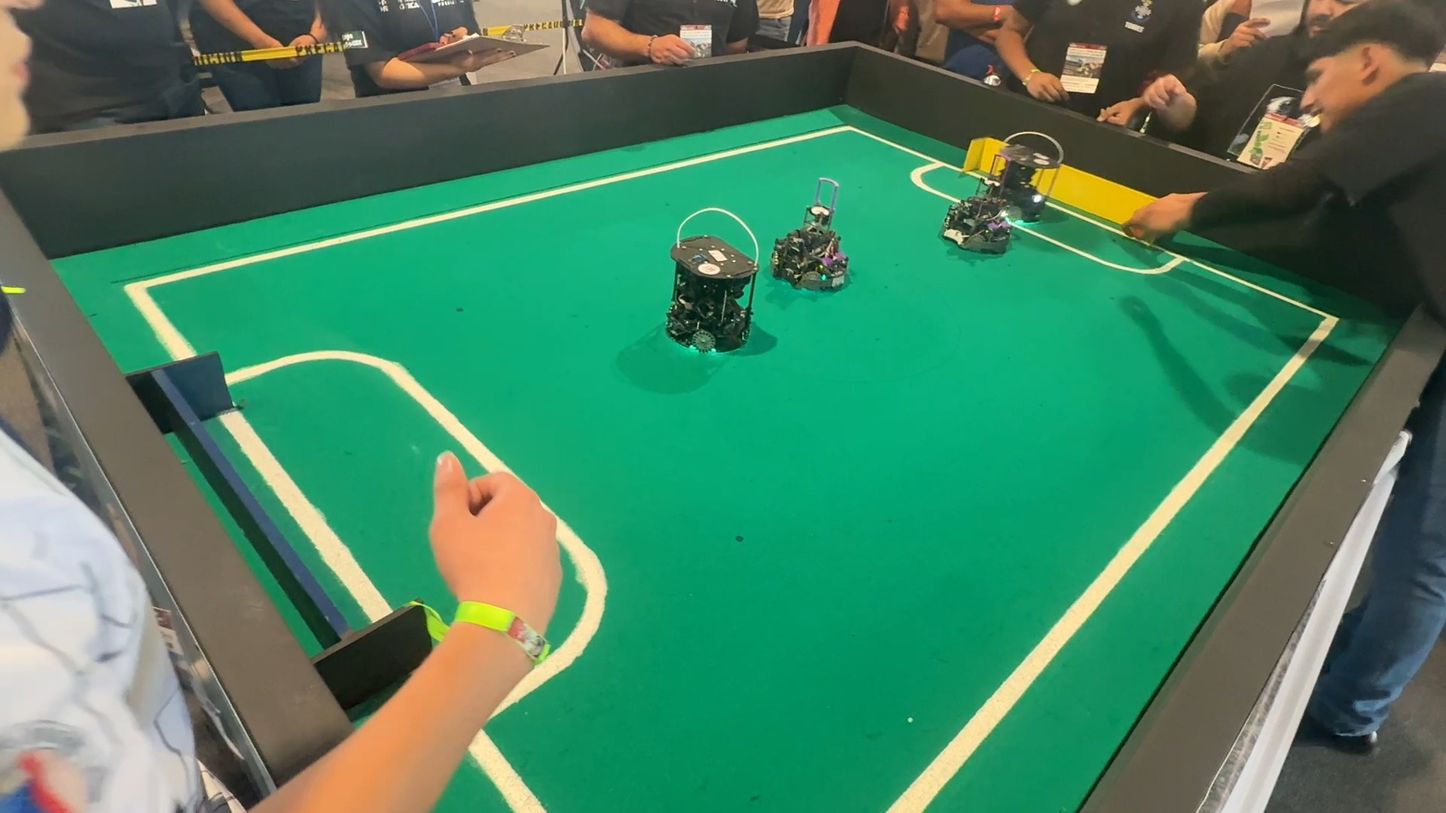Robot: (645, 200, 777, 392), (916, 129, 1070, 269), (769, 190, 864, 308)
